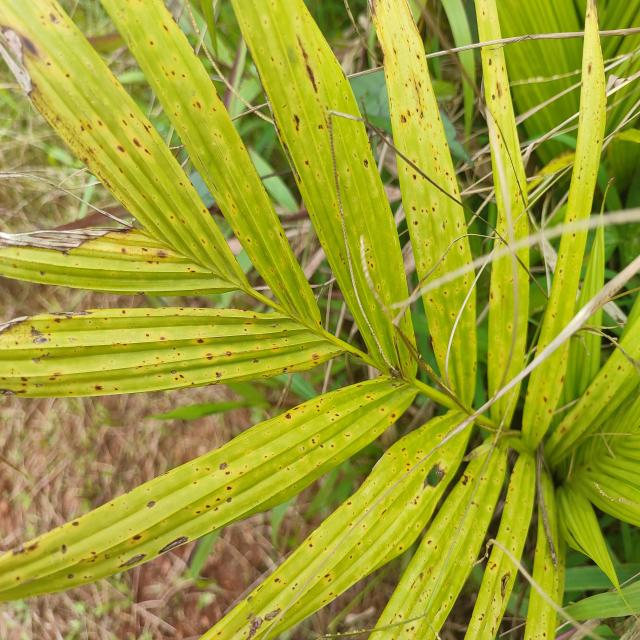Stem_Cracking: (134, 137, 458, 526)
